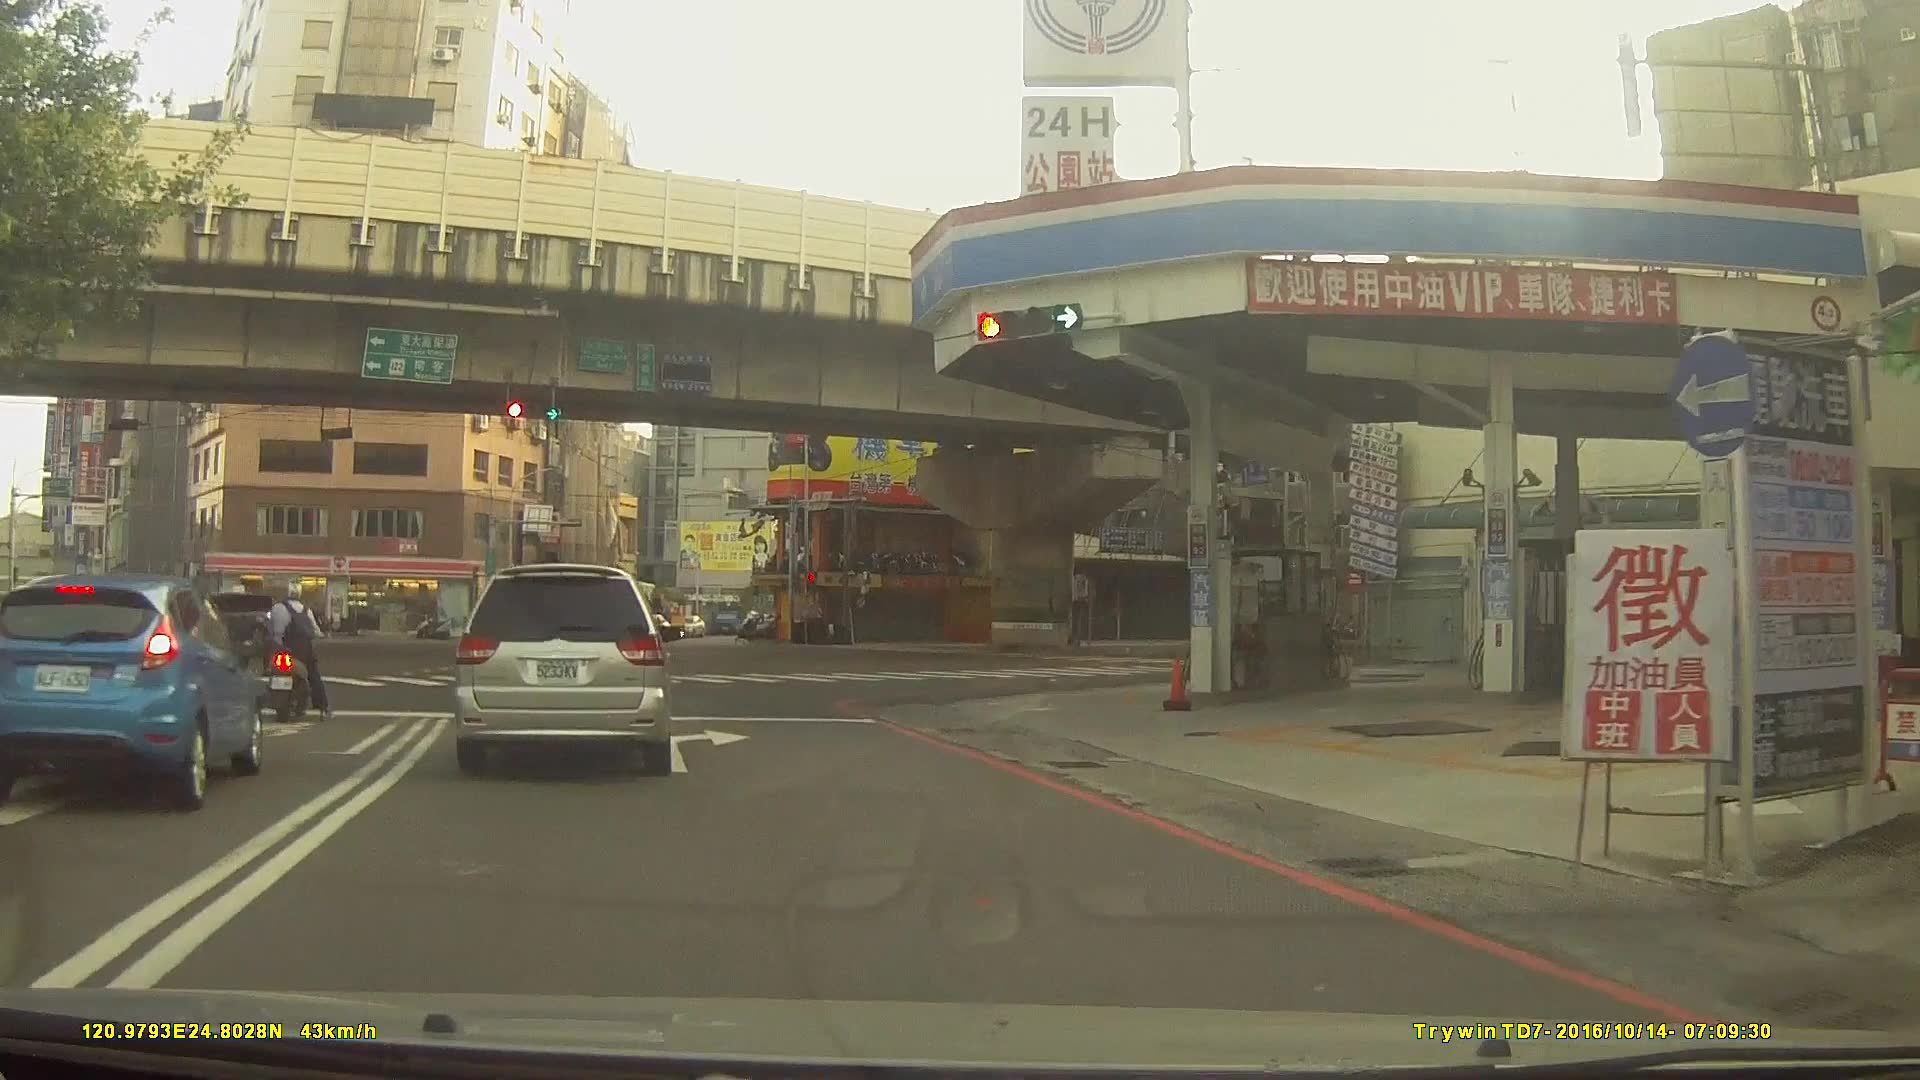rider: (265, 577, 329, 728), (169, 578, 229, 716)
vehicle: (0, 568, 261, 810), (451, 560, 675, 774), (132, 587, 278, 641), (543, 606, 605, 633)
